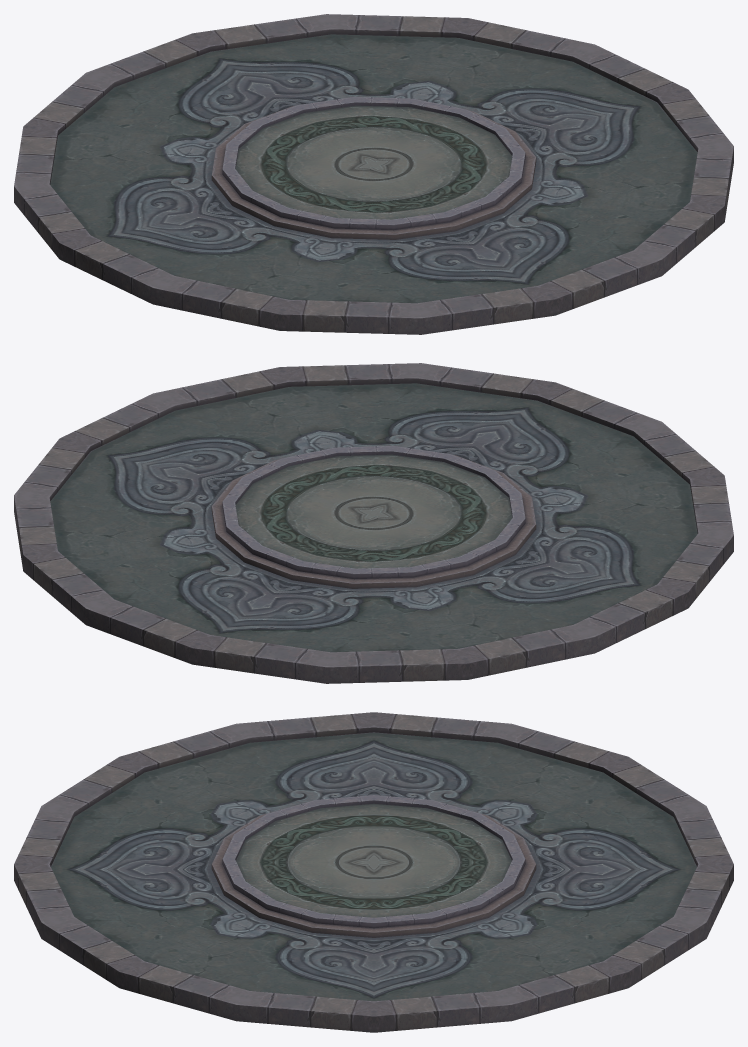
File: di_shi_004.FBX
3 renders of one model, top to bottom at view 1: azimuth 30°, elevation 25°; view 2: azimuth 150°, elevation 25°; view 3: azimuth 270°, elevation 25°, orthographic.
Parts seen in each view (by area): view 1: di_shi_004_a01; view 2: di_shi_004_a01; view 3: di_shi_004_a01.
Part boxes in pixels (left/top/right/bottom): di_shi_004_a01: left=14, top=14, right=733, bottom=334; di_shi_004_a01: left=14, top=363, right=733, bottom=683; di_shi_004_a01: left=14, top=712, right=733, bottom=1032.
Bounding box in the file's own units: 956 × 31.67 × 956.
1 material, 1 textured.
